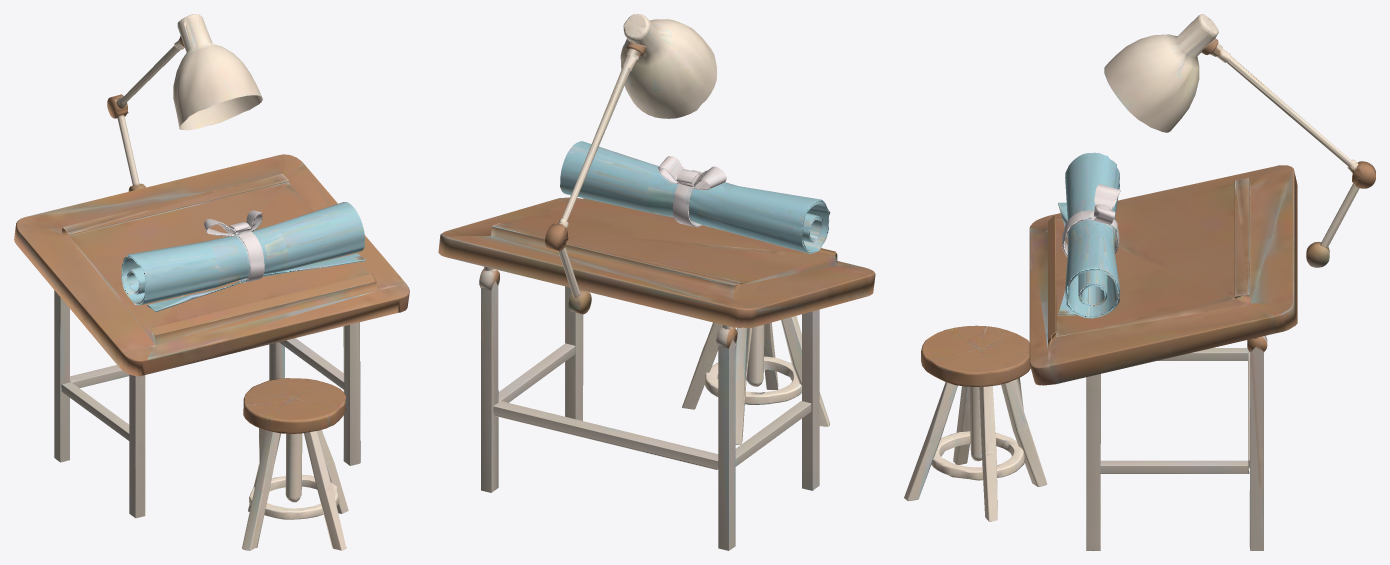
The model's file is drafting-table.glb.
The picture shows the model from 3 angles, left to right: view 1: azimuth 30°, elevation 25°; view 2: azimuth 150°, elevation 25°; view 3: azimuth 270°, elevation 25°; orthographic projection. The views are drawn at different scales.
Size of the model in its own units: 0.6451 by 0.9512 by 0.8555.
Materials: 1 (1 with a texture image).
